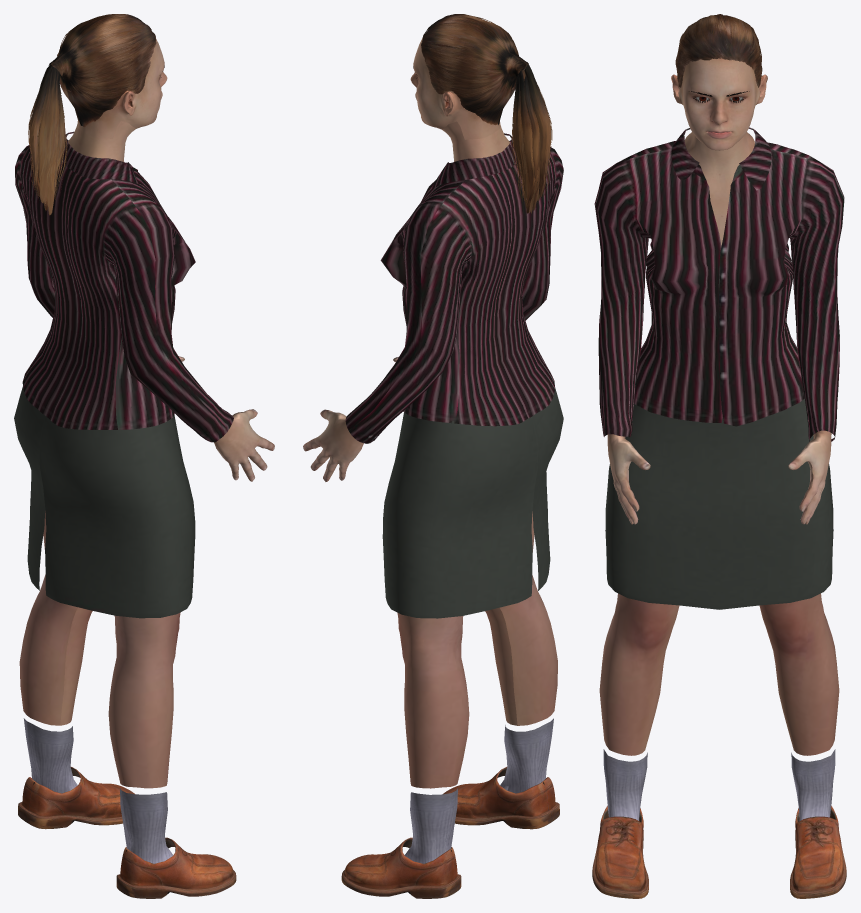
Rendered from talent-female-standing.glb.
3 renders of one model, left to right at view 1: azimuth 30°, elevation 25°; view 2: azimuth 150°, elevation 25°; view 3: azimuth 270°, elevation 25°, orthographic.
Visible parts, largest first — view 1: female_elegantsuit01, body, shoes01, ponytail01; view 2: female_elegantsuit01, body, shoes01, ponytail01; view 3: female_elegantsuit01, body, shoes01, ponytail01.
Boxes of the visible parts, left/top/right/bottom form: female_elegantsuit01: left=14, top=131, right=233, bottom=618; body: left=19, top=39, right=274, bottom=788; shoes01: left=18, top=718, right=236, bottom=898; ponytail01: left=28, top=14, right=156, bottom=215; female_elegantsuit01: left=345, top=133, right=563, bottom=618; body: left=303, top=38, right=557, bottom=788; shoes01: left=341, top=718, right=559, bottom=898; ponytail01: left=421, top=14, right=552, bottom=213; female_elegantsuit01: left=594, top=127, right=844, bottom=609; body: left=599, top=58, right=839, bottom=755; shoes01: left=592, top=749, right=846, bottom=898; ponytail01: left=675, top=14, right=762, bottom=87.
Bounding box in the file's own units: 0.4121 × 1.62 × 0.4409.
7 materials, 7 textured.
